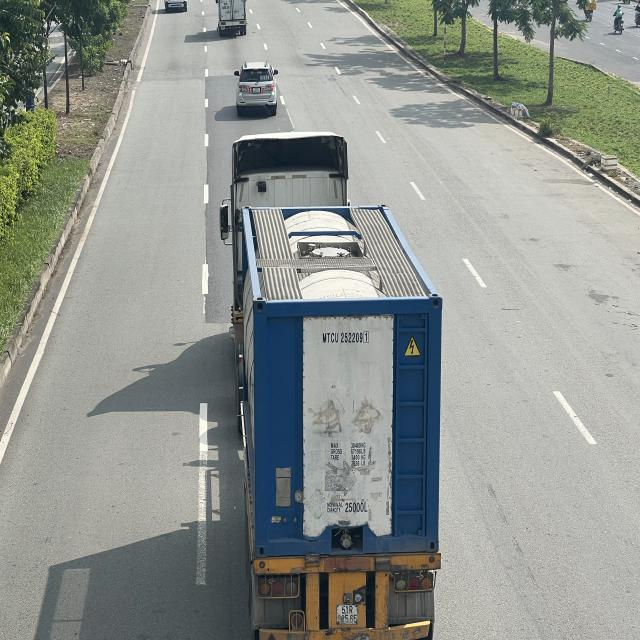car: (236, 61, 281, 115)
container: (228, 131, 448, 633)
truck: (215, 0, 248, 35)
